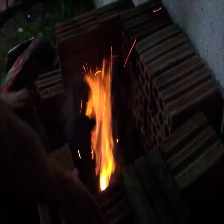fire: (75, 62, 126, 198)
